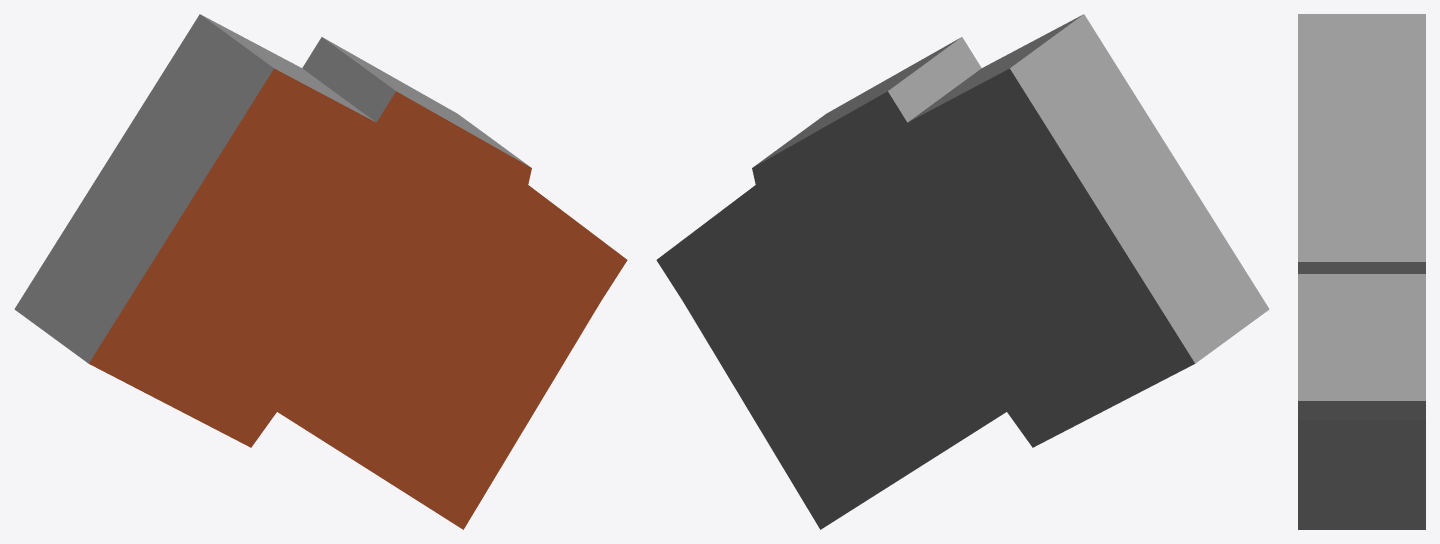
The model's file is construction_0554_assumed_A_Casa_h6m.obj.
3 renders of one model, left to right at view 1: azimuth 30°, elevation 25°; view 2: azimuth 150°, elevation 25°; view 3: azimuth 270°, elevation 25°, orthographic. The views are drawn at different scales.
Visible parts, largest first — view 1: construction_0554_assumed_A_Casa; view 2: construction_0554_assumed_A_Casa; view 3: construction_0554_assumed_A_Casa.
Part boxes in pixels (bbox=[...]): construction_0554_assumed_A_Casa: bbox=[14, 14, 627, 529]; construction_0554_assumed_A_Casa: bbox=[656, 14, 1269, 529]; construction_0554_assumed_A_Casa: bbox=[1298, 14, 1425, 529].
Size of the model in its own units: 25.11 by 22.61 by 6.
